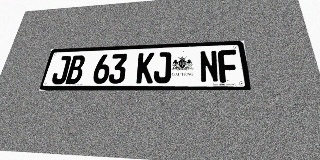3: (108, 54, 128, 84)
6: (92, 54, 112, 84)
B: (65, 55, 86, 84)
F: (217, 49, 239, 83)
J: (50, 56, 72, 84), (153, 52, 171, 83)
K: (136, 53, 154, 83)
N: (199, 50, 219, 83)
